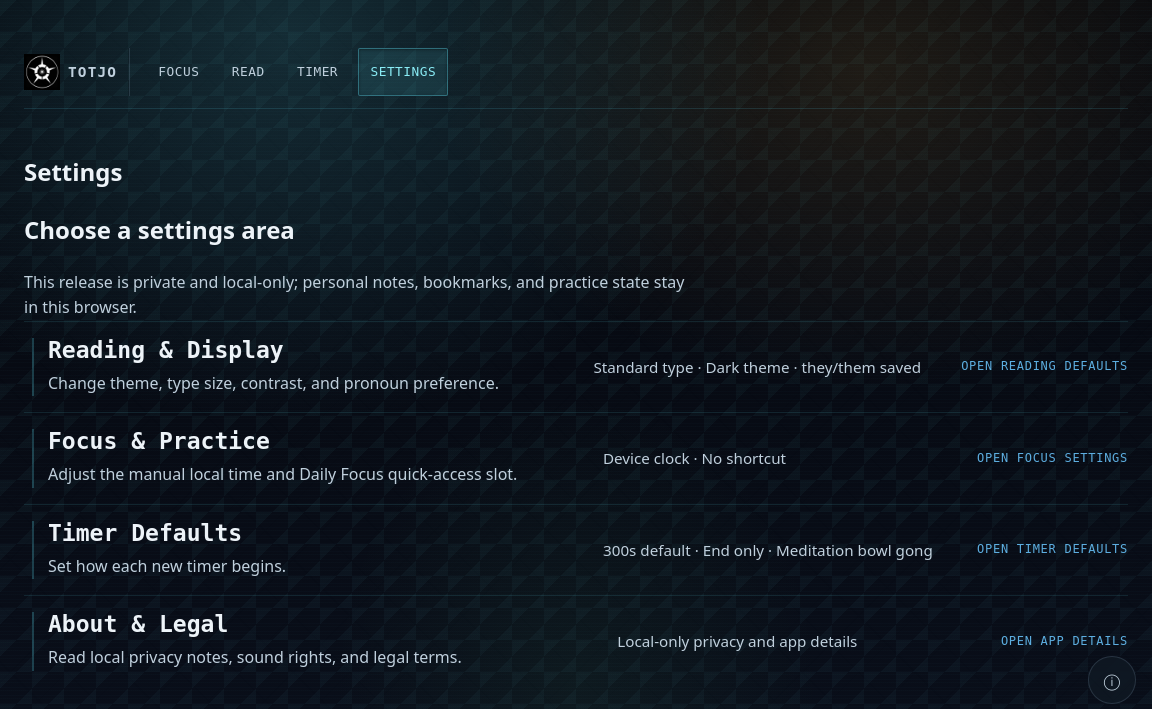
Test: settings information architecture › opens a focused reading settings page from the settings index
Click the link with test id "settings-group-reading-display" at (166, 350), box [24,321,1128,412]
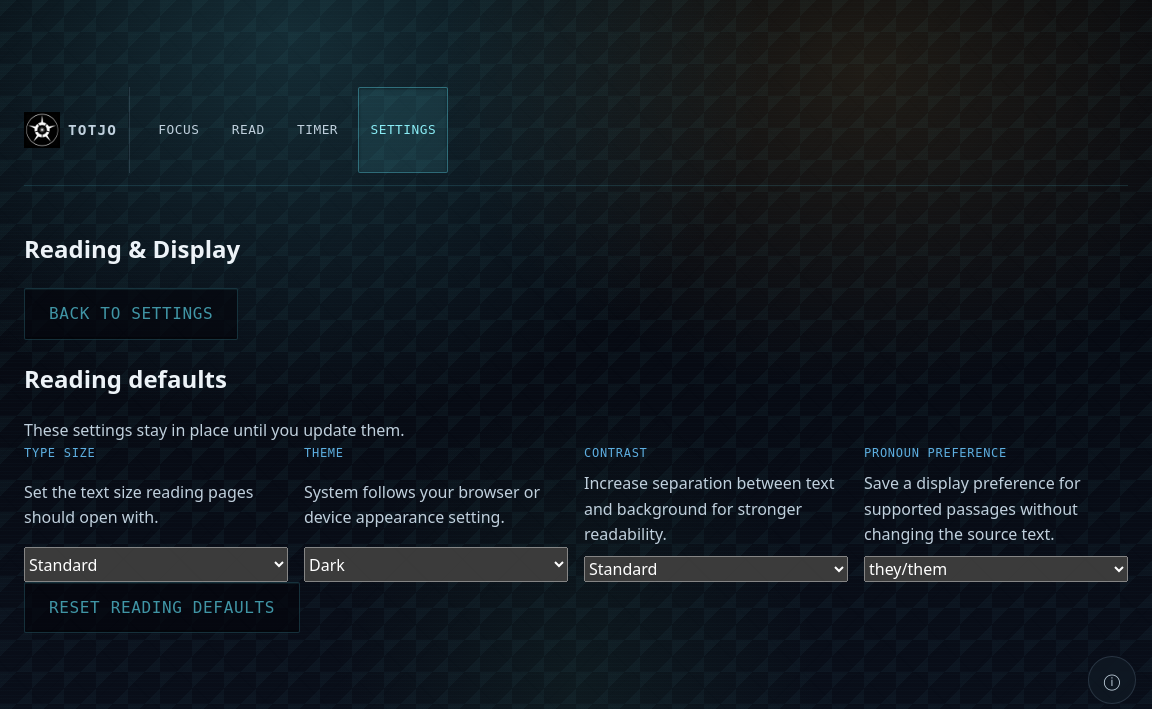
Check: the heading with test id "page-title" reads "Reading & Display", box [24,232,240,265]
Check: the dropdown with test id "setting-font-scale" is shown, box [24,547,288,582]
Check: the link "Back to settings" is shown, box [24,288,238,340]
